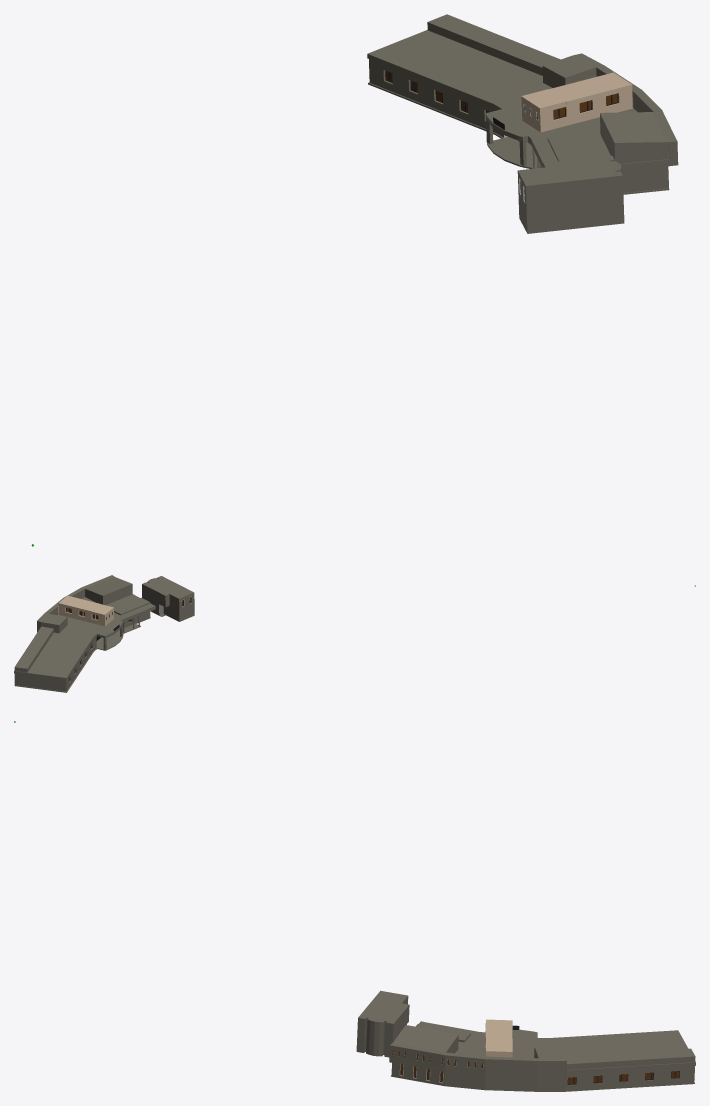
The picture shows the model from 3 angles, top to bottom: view 1: azimuth 30°, elevation 25°; view 2: azimuth 150°, elevation 25°; view 3: azimuth 270°, elevation 25°; orthographic projection. The views are drawn at different scales.
Parts seen in each view (by area): view 1: dep info; view 2: dep info; view 3: dep info.
Boxes of the visible parts, box(x1,y1,x2,y2) form: dep info: box(367, 14, 678, 233); dep info: box(14, 575, 194, 692); dep info: box(356, 990, 695, 1091).
Bounding box in the file's own units: 325 × 23.91 × 285.
Materials: 2 (2 with a texture image).
